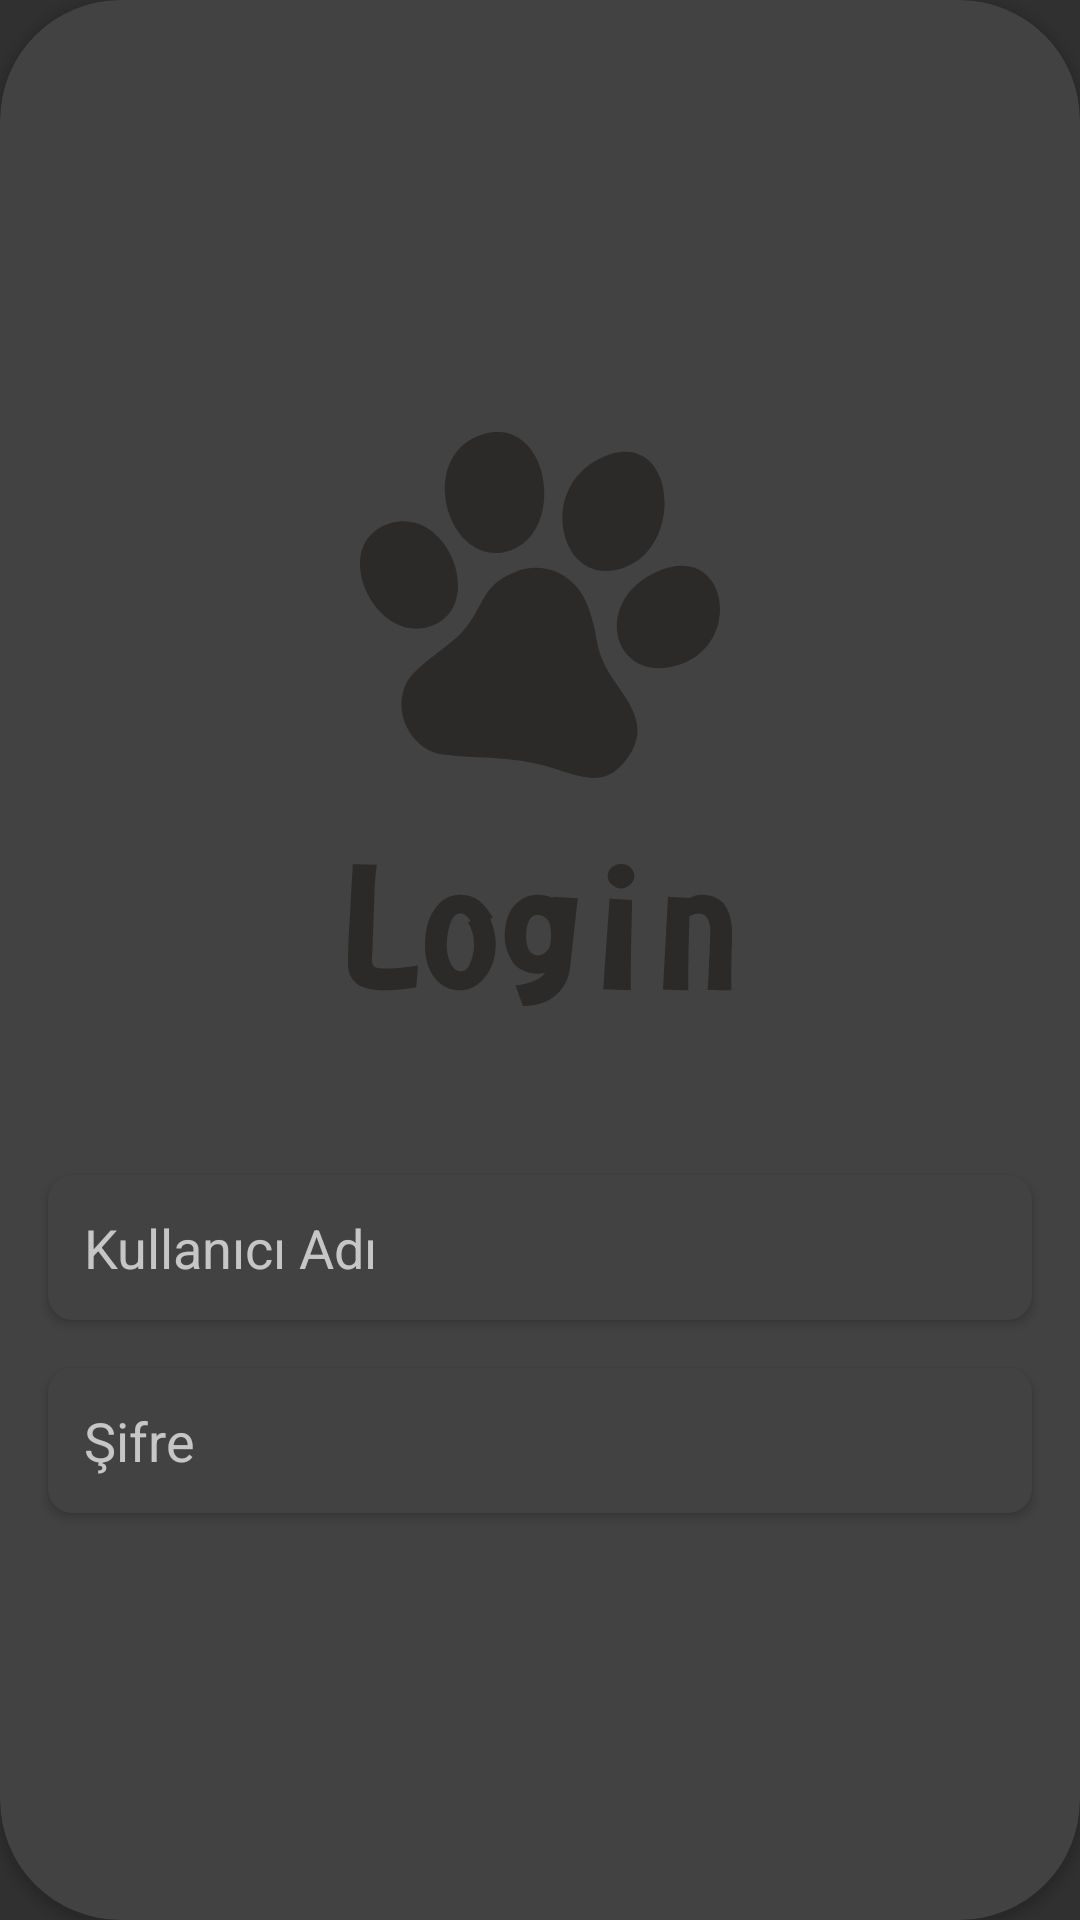

Icon click points for this 1080px×1920px phone screenshot, format [x,y]:
pati: [539,605]
